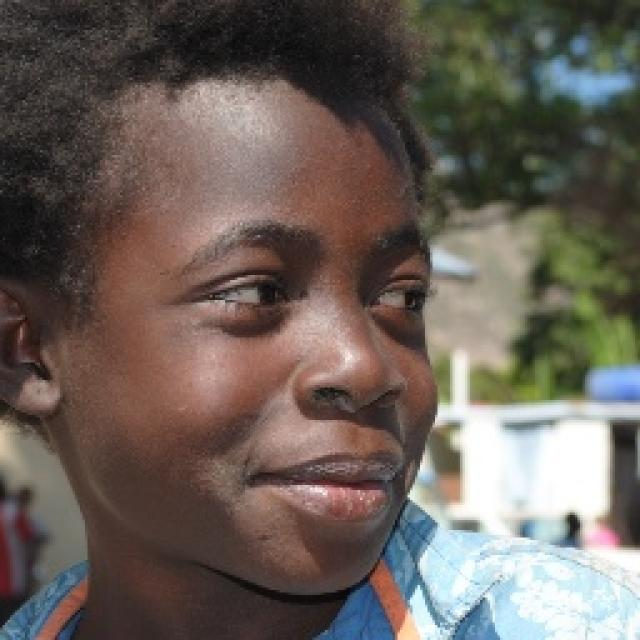earlobe: (17, 372, 63, 419)
eye: (202, 276, 289, 316), (374, 279, 427, 316)
nose: (303, 389, 397, 453)
wholeear: (0, 278, 64, 419)
